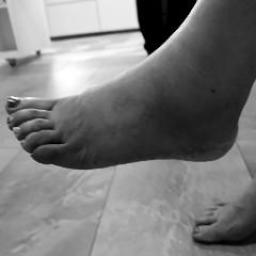Lateral View -Left Foot-: (1, 45, 255, 184)
